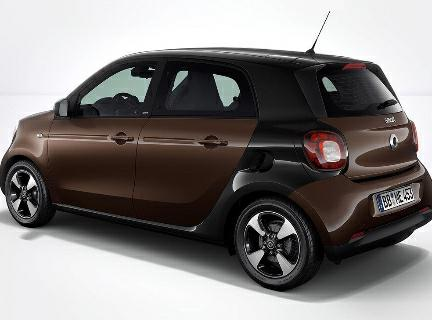smart-forfour: (0, 37, 432, 293)
